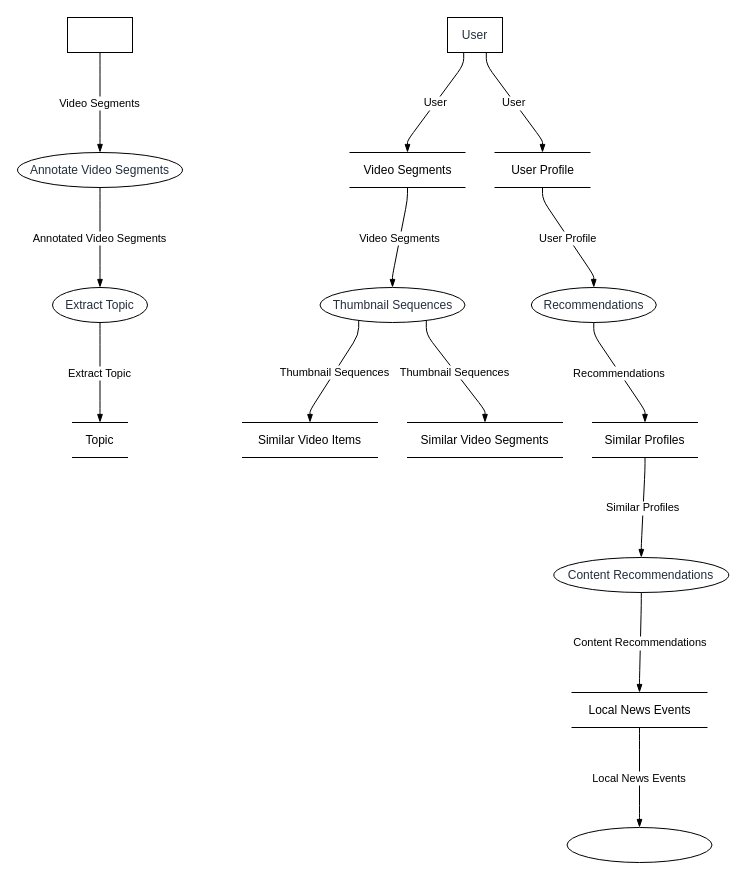
Some shapes in this 747 by 880 pixel diagram are drawn without their labels. The shapes that lost their labels are listed below. From the top down, each one's centre as x and y in pixels, then its label:
At (99,34): "Admin".
At (639,844): "Relevant News Events".
